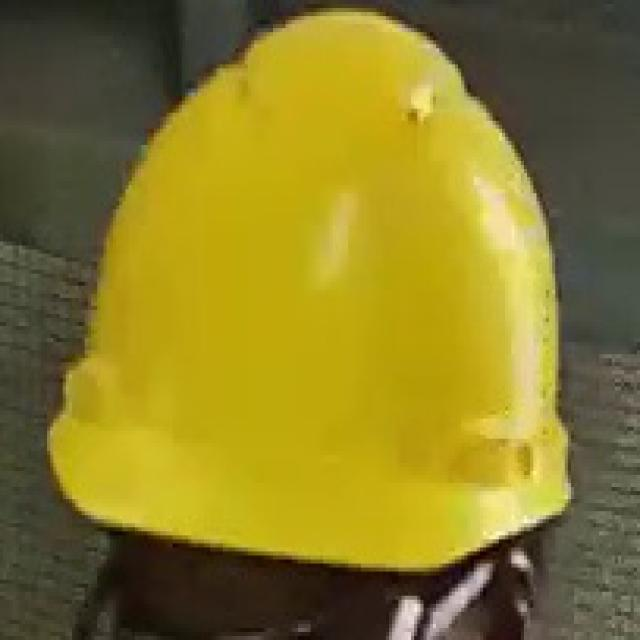yellow helmet: (55, 5, 580, 581)
